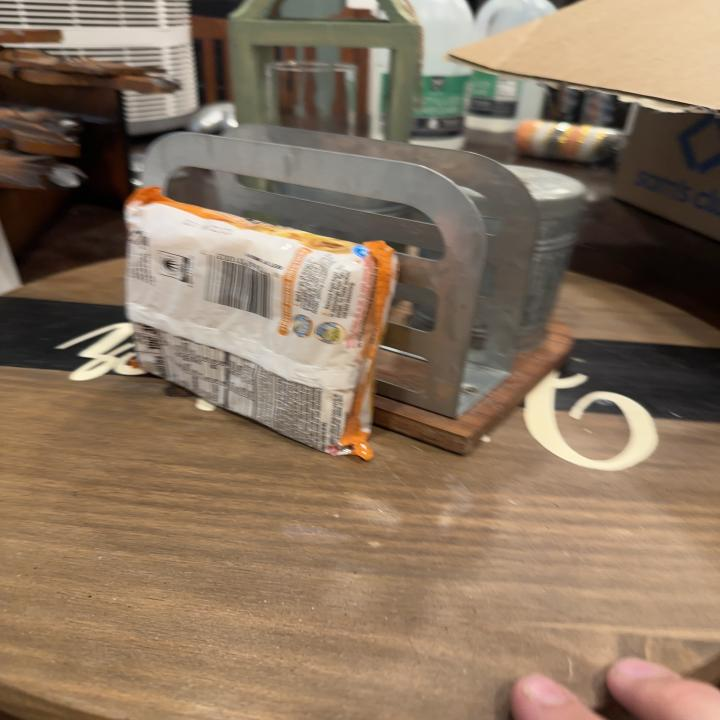Ramen: (124, 184, 402, 462)
